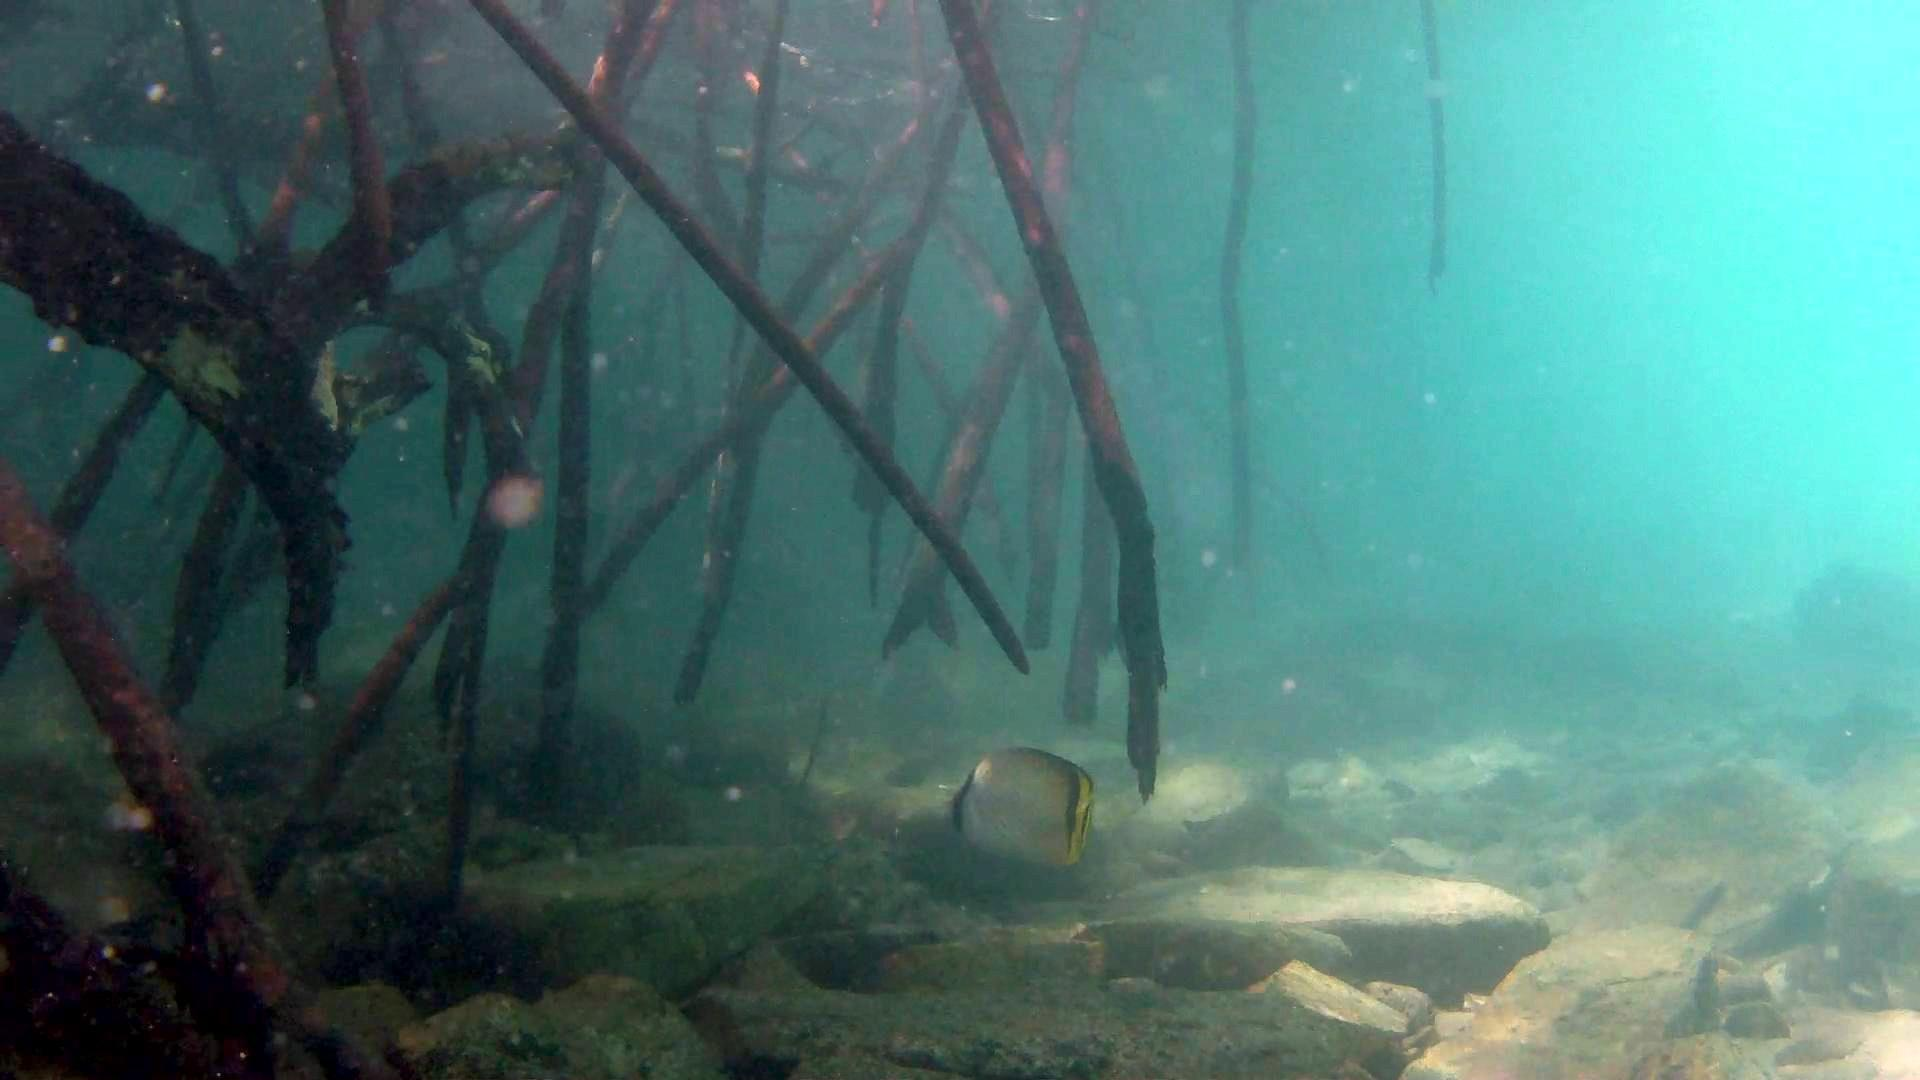chaetodon vagabundus: (938, 745, 1097, 872)
